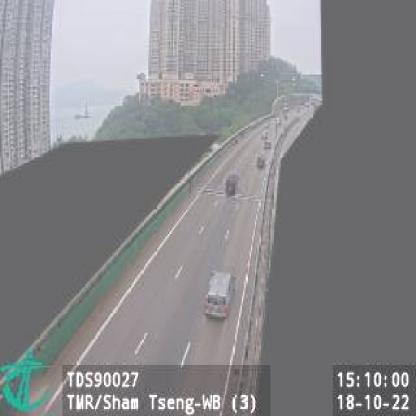Car: (204, 269, 236, 323), (257, 154, 266, 168)
Truck: (226, 172, 240, 196)
